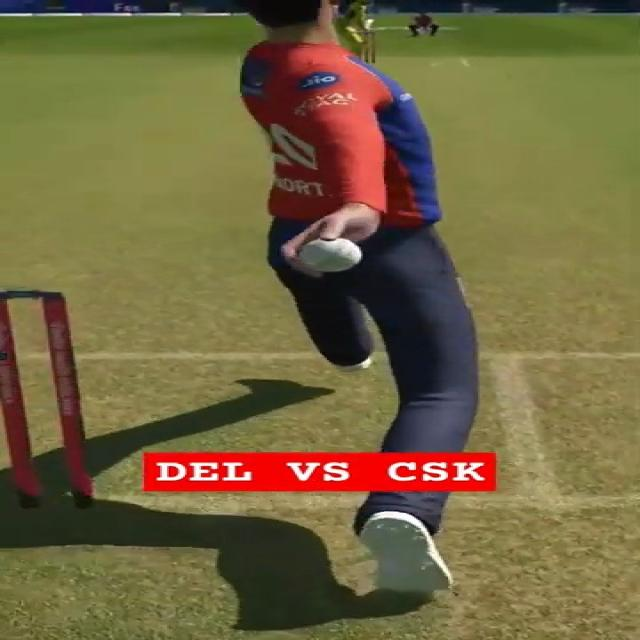ball: (299, 238, 363, 272)
